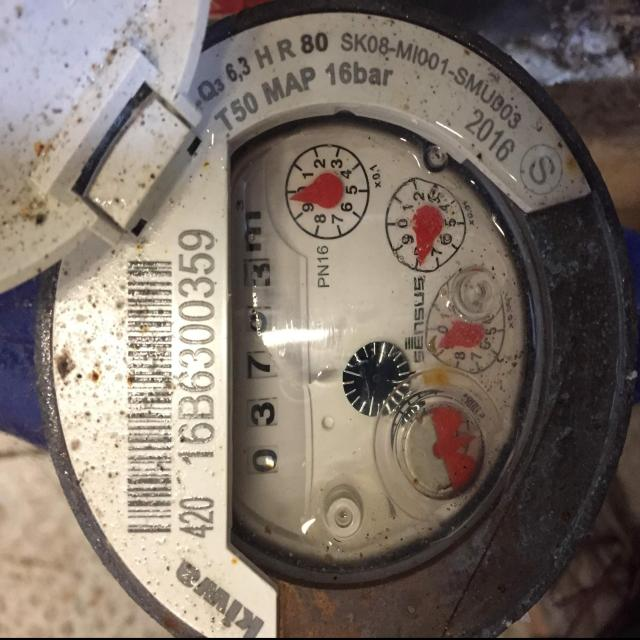gaz_meter: (53, 12, 622, 640)
indication: (235, 253, 298, 489)
